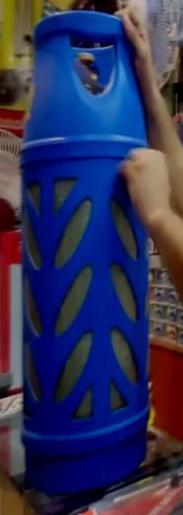cylinder: (1, 0, 183, 515)
